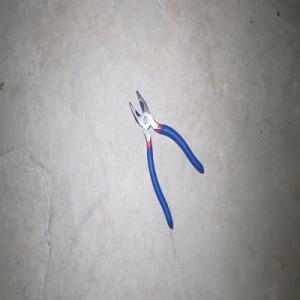Pliers: (128, 89, 204, 229)
